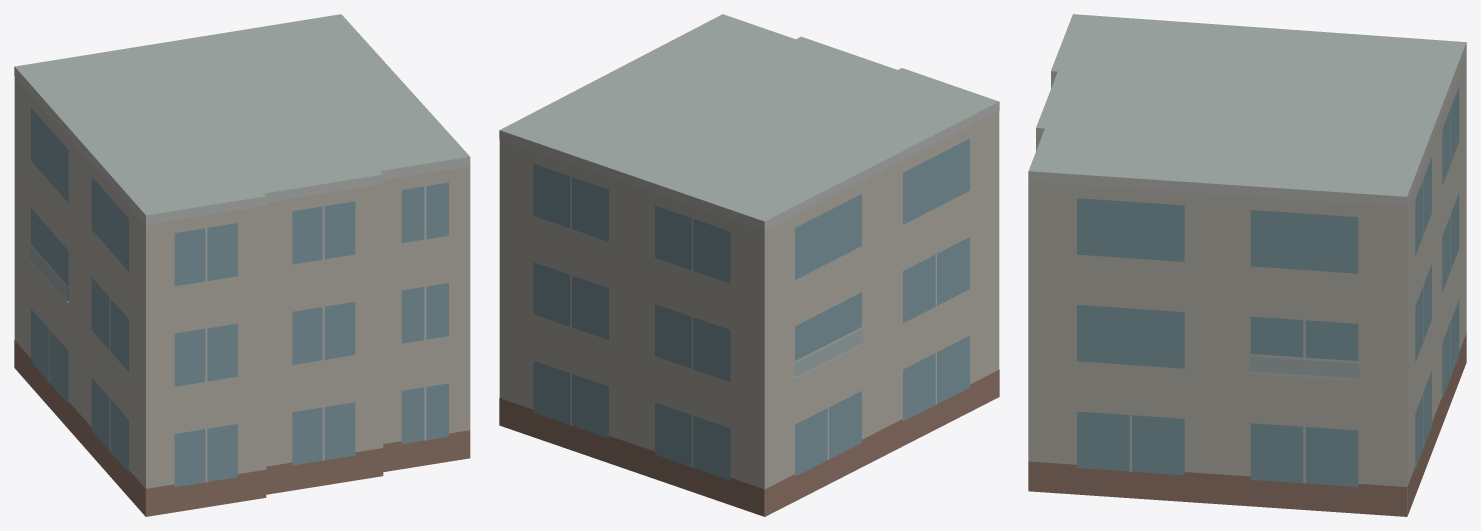
The model's file is survey-upis-32616281.glb.
3 renders of one model, left to right at view 1: azimuth 30°, elevation 25°; view 2: azimuth 150°, elevation 25°; view 3: azimuth 270°, elevation 25°, orthographic. The views are drawn at different scales.
Visible parts, largest first — view 1: survey-upis-32616281.tmp; view 2: survey-upis-32616281.tmp; view 3: survey-upis-32616281.tmp.
Boxes of the visible parts, x1,y1,x2,y2 form: survey-upis-32616281.tmp: [14, 14, 470, 516]; survey-upis-32616281.tmp: [499, 14, 999, 516]; survey-upis-32616281.tmp: [1028, 14, 1466, 516].
Bounding box in the file's own units: 9.57 × 7.8 × 9.69.
